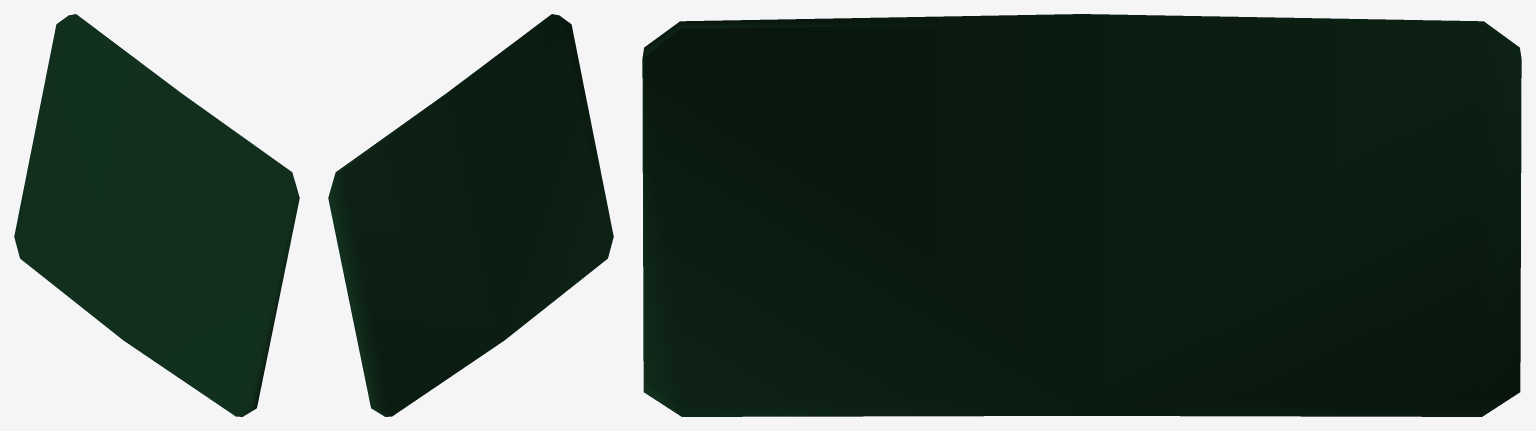
The model's file is Plate_US.obj.
3 views of the same model, side by side, from view 1: azimuth 30°, elevation 25°; view 2: azimuth 150°, elevation 25°; view 3: azimuth 270°, elevation 25° (orthographic). The views are drawn at different scales.
Visible parts, largest first — view 1: Plate_US; view 2: Plate_US; view 3: Plate_US.
Boxes of the visible parts, bbox=[...] form: Plate_US: bbox=[14, 14, 299, 416]; Plate_US: bbox=[328, 14, 613, 416]; Plate_US: bbox=[642, 14, 1521, 416].
Size of the model in its own units: 0.0464 by 0.1725 by 0.3125.
